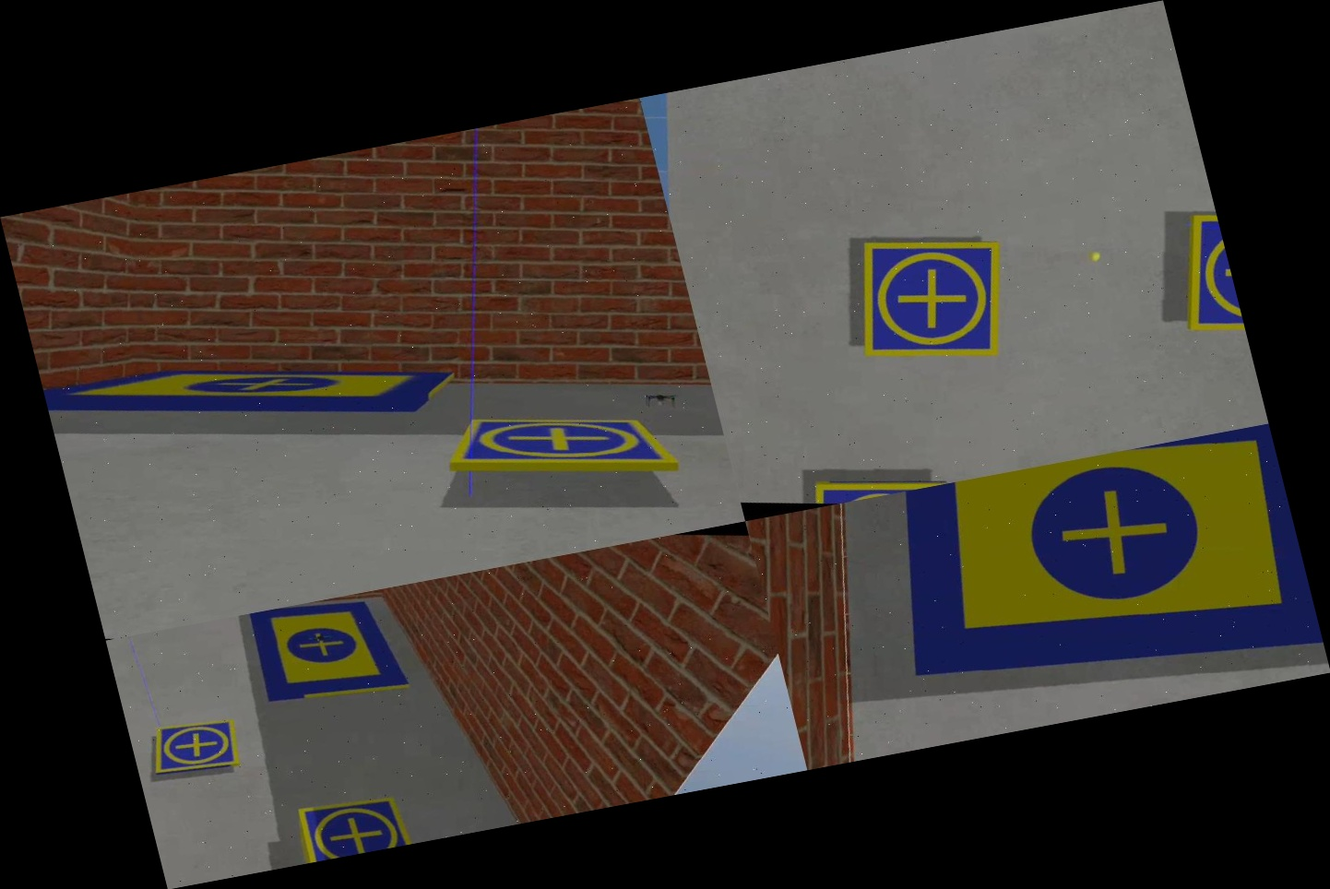large_base: (852, 423, 1330, 749), (35, 283, 466, 487), (233, 585, 433, 725)
small_base: (438, 377, 693, 514), (835, 213, 1027, 383), (274, 773, 434, 866), (1158, 207, 1250, 360), (137, 703, 255, 792), (804, 452, 951, 508)
